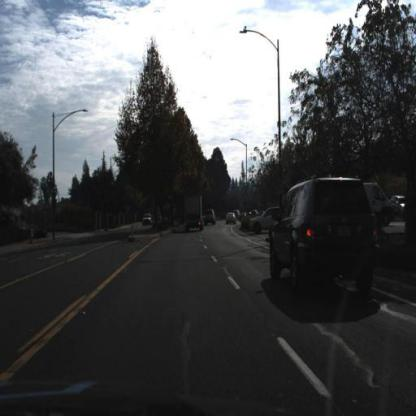car: (265, 180, 381, 306), (366, 178, 398, 234), (249, 208, 283, 238), (182, 191, 205, 235), (247, 208, 280, 235), (203, 208, 217, 230), (225, 210, 238, 228), (143, 213, 153, 230)
truck: (182, 191, 204, 233)
